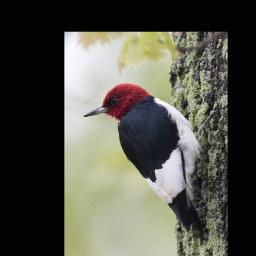Woodpecker: (77, 81, 215, 243)
